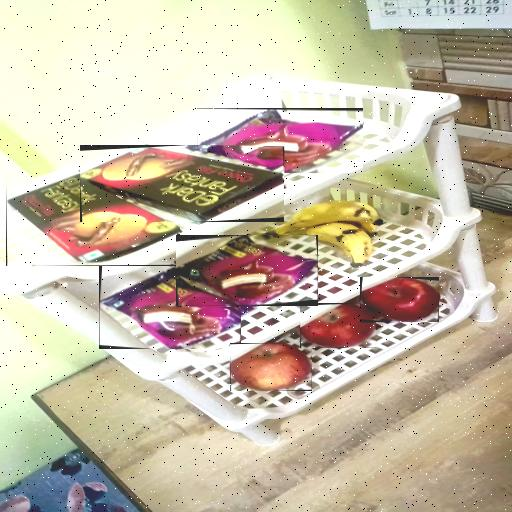Apple: (230, 343, 312, 391), (360, 277, 439, 322), (300, 303, 376, 348)
Choco Fills: (6, 174, 180, 266), (80, 147, 284, 222)
Choco Pie: (99, 264, 241, 349), (197, 108, 363, 173), (176, 235, 318, 305)
